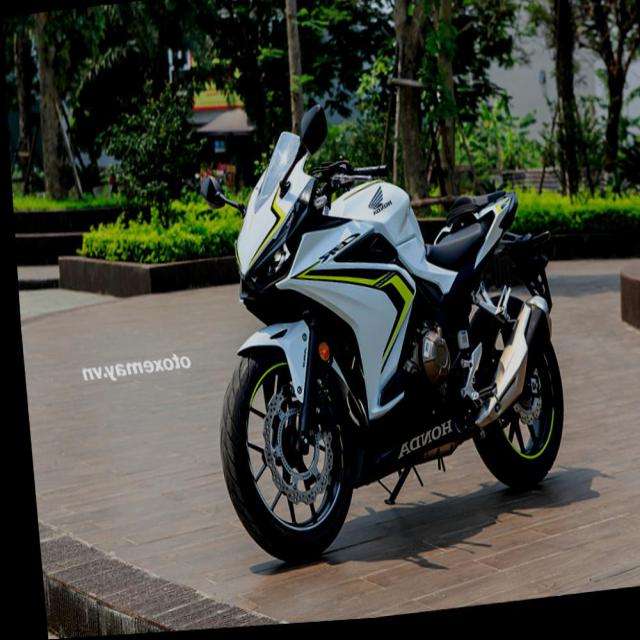CBR500R: (184, 82, 571, 580)
